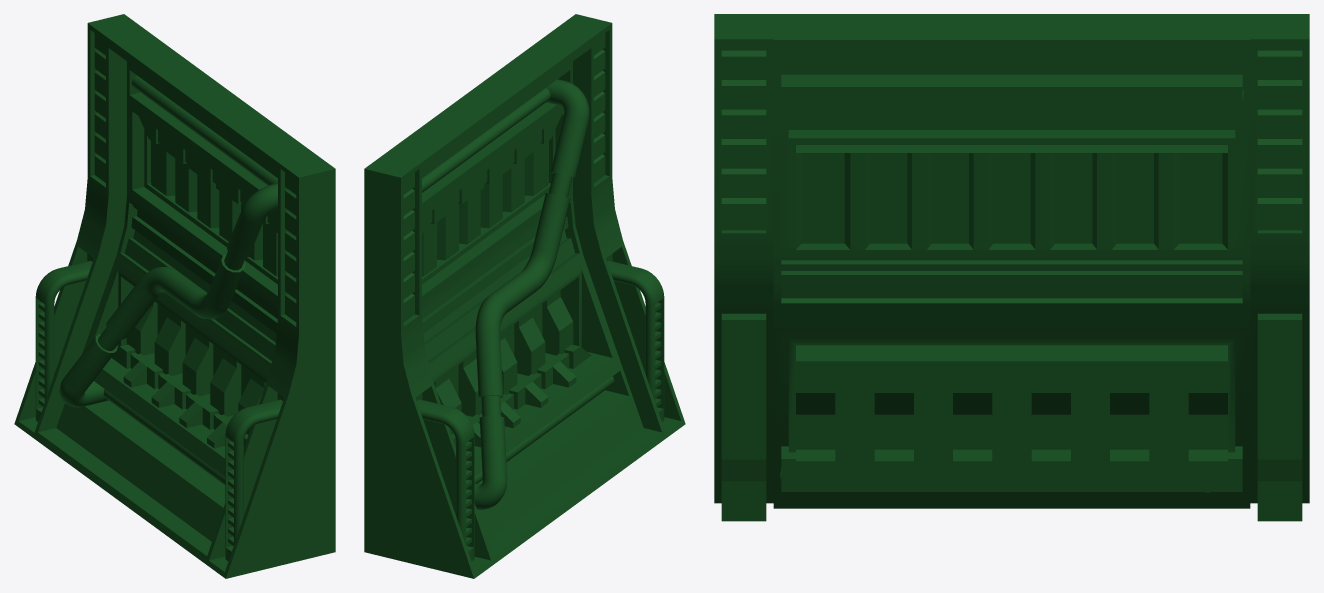
File: Wall_B_4x4m_B.FBX
3 renders of one model, left to right at view 1: azimuth 30°, elevation 25°; view 2: azimuth 150°, elevation 25°; view 3: azimuth 270°, elevation 25°, orthographic. The views are drawn at different scales.
Parts seen in each view (by area): view 1: Wall_B_4x4m_B; view 2: Wall_B_4x4m_B; view 3: Wall_B_4x4m_B.
Part boxes in pixels (box(x1,y1,x2,y2)): Wall_B_4x4m_B: box(14, 14, 335, 578); Wall_B_4x4m_B: box(364, 14, 685, 578); Wall_B_4x4m_B: box(714, 14, 1309, 521).
Size of the model in its own units: 126 by 400 by 400.
